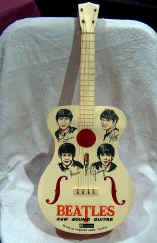guitar: (36, 3, 134, 236)
